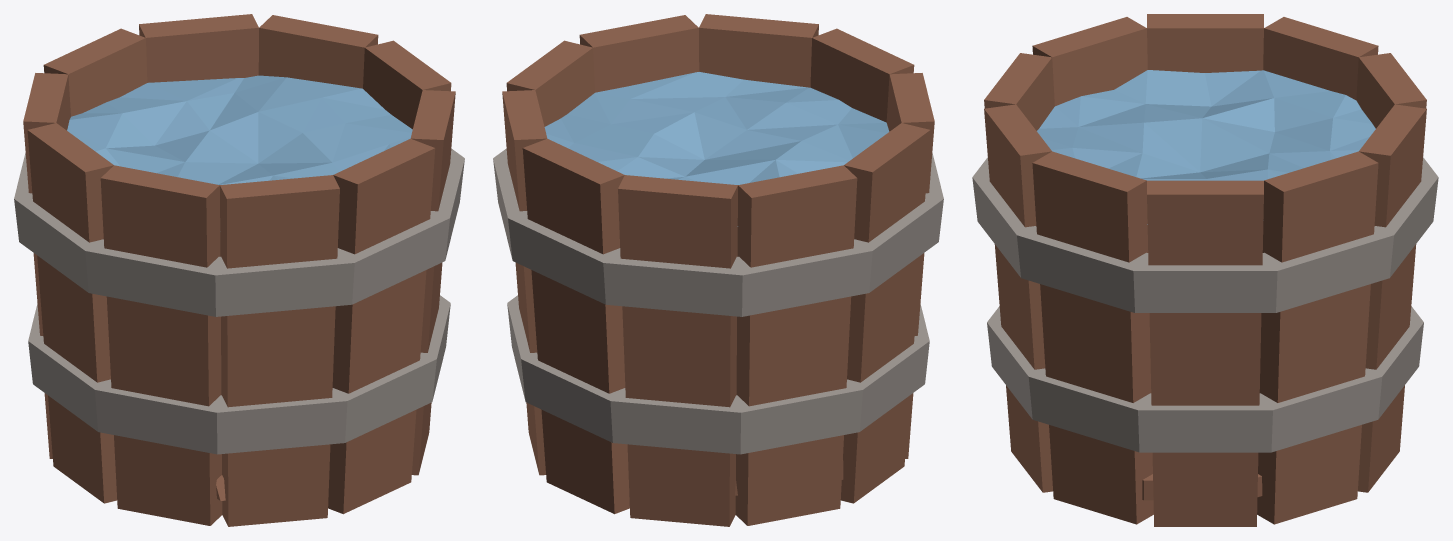
File: Water.fbx
The picture shows the model from 3 angles, left to right: view 1: azimuth 30°, elevation 25°; view 2: azimuth 150°, elevation 25°; view 3: azimuth 270°, elevation 25°; orthographic projection.
Parts seen in each view (by area): view 1: wasser_element; view 2: wasser_element; view 3: wasser_element.
Boxes of the visible parts, x1,y1,x2,y2 form: wasser_element: (14,14,464,526); wasser_element: (493,14,943,526); wasser_element: (972,14,1438,526).
Size of the model in its own units: 234 by 200 by 246.
